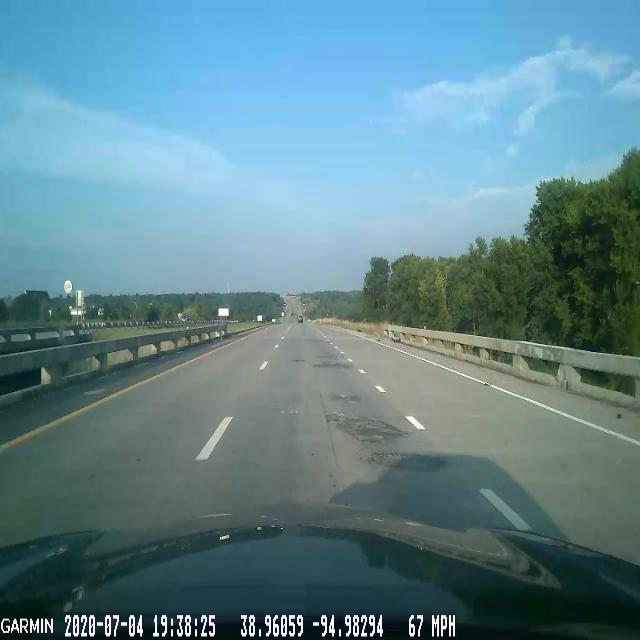Pothole: (319, 404, 409, 452), (366, 444, 458, 481), (321, 385, 365, 410)
